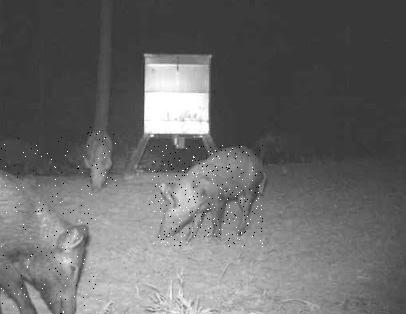Hog: (0, 137, 97, 314), (149, 145, 263, 247), (80, 127, 118, 191)
